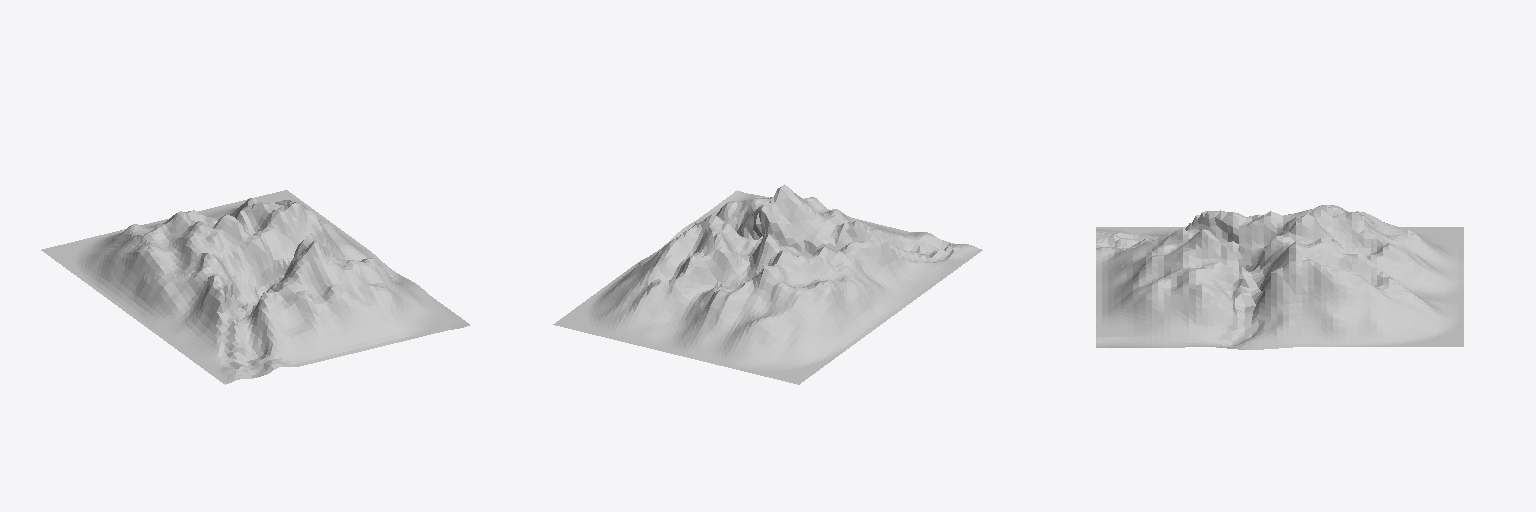
The model's file is world.obj.
The picture shows the model from 3 angles: view 1: azimuth 30°, elevation 25°; view 2: azimuth 150°, elevation 25°; view 3: azimuth 270°, elevation 25°; orthographic projection.
Parts seen in each view (by area): view 1: Landscape; view 2: Landscape; view 3: Landscape.
Boxes of the visible parts, x1=… form: Landscape: x1=41, y1=190, x2=469, y2=384; Landscape: x1=553, y1=184, x2=982, y2=384; Landscape: x1=1096, y1=205, x2=1463, y2=349.
Size of the model in its own units: 12.93 by 3.77 by 16.77.